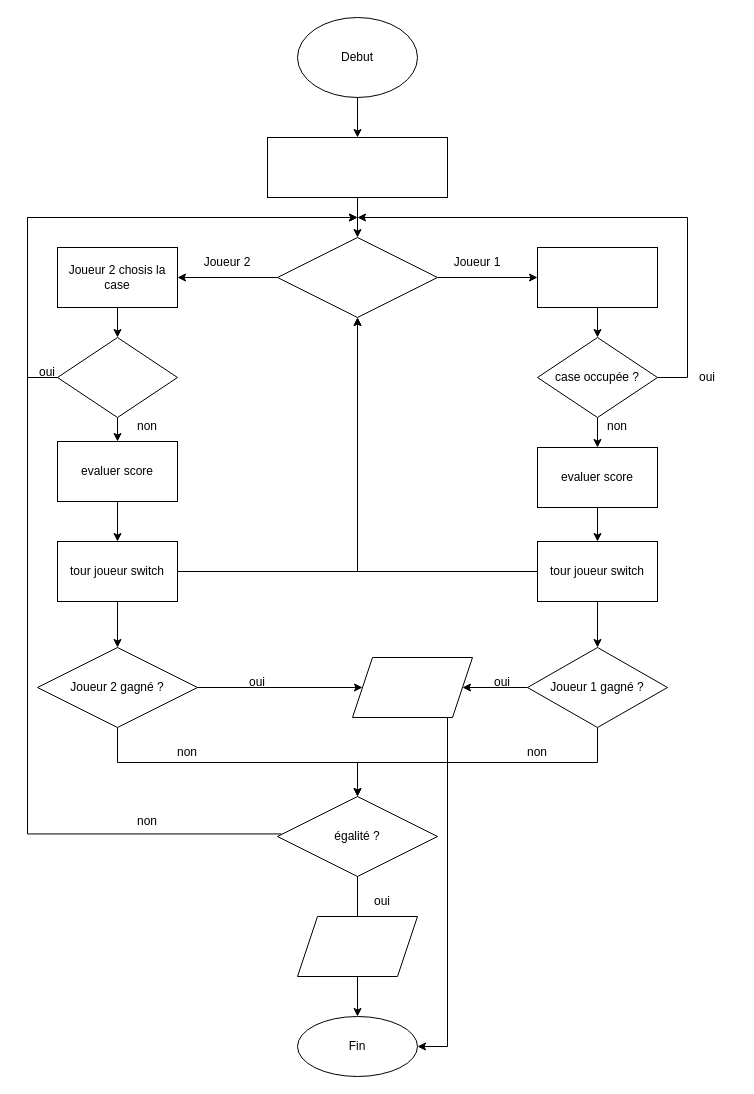
This 754x1094 diagram has some shape labels left out. The centre of each missing label's shape, as x and y in pixels:
"afficher gagnant" belongs at (x=412, y=687).
"afficher égalité" belongs at (x=357, y=946).
"case occupé ?" belongs at (x=117, y=377).
"choisir qui commence aléatoire" belongs at (x=357, y=167).
"Joueur 1 ? Joueur 2?" belongs at (x=357, y=277).
"Joueur 1 choisi la case" belongs at (x=597, y=277).
